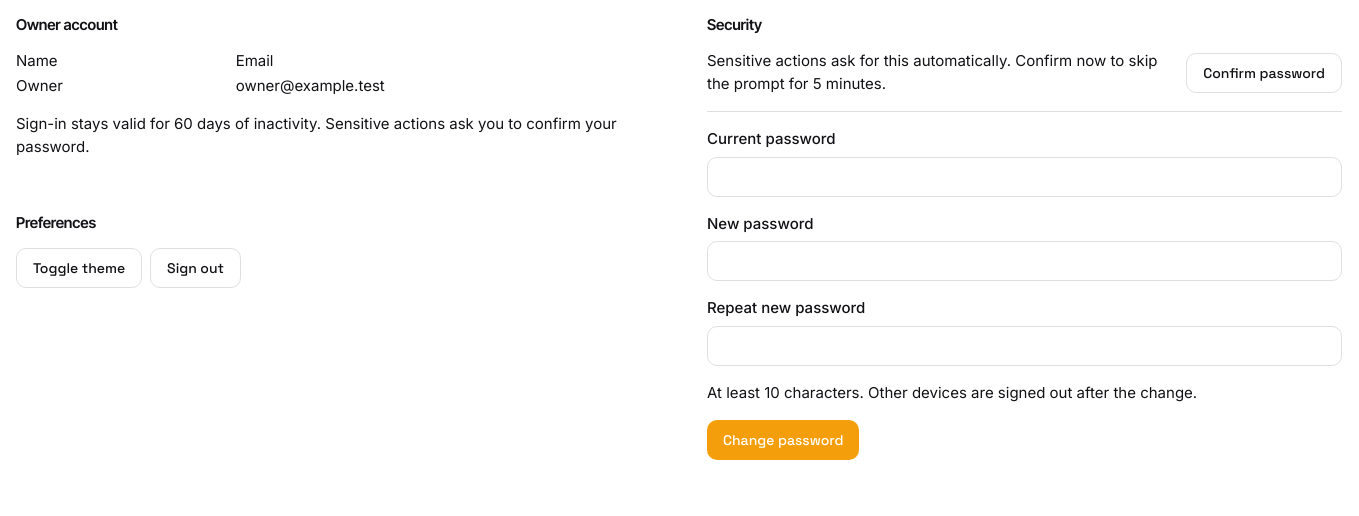
Test: owner password settings › does not send mismatched passwords
Check: the heading "Security" is shown, box [707, 16, 762, 34]
Type "old-password-1" into the password field labelled "Current password".
click(1024, 176); type("old-password-1")  # box [707, 156, 1342, 196]
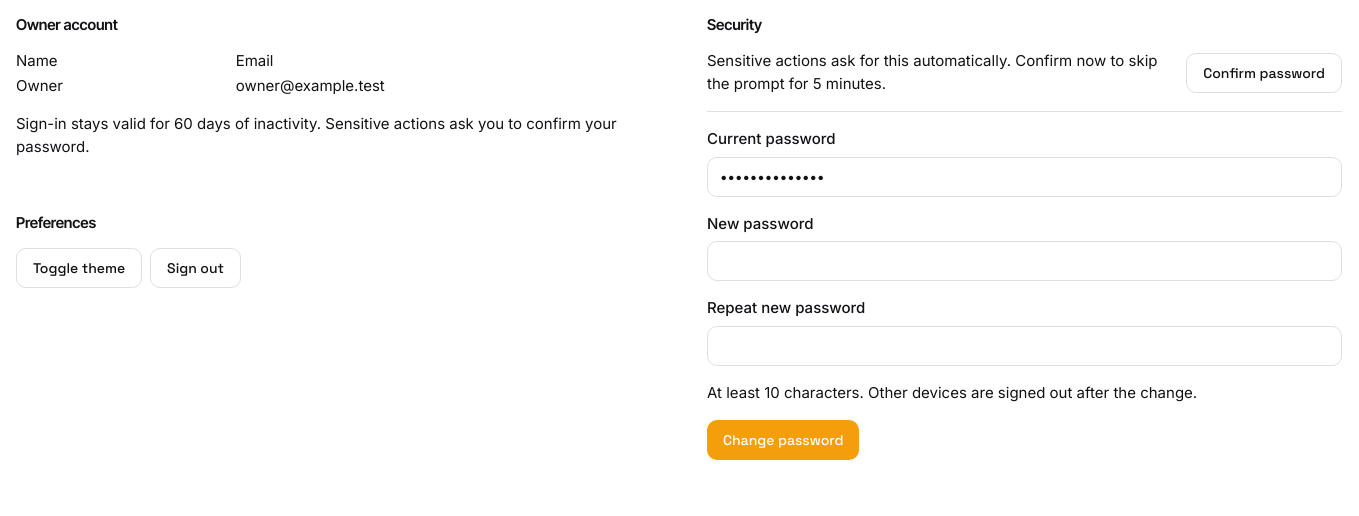
Type "new-password-1" into the password field labelled "New password".
click(1024, 261); type("new-password-1")  # box [707, 241, 1342, 281]
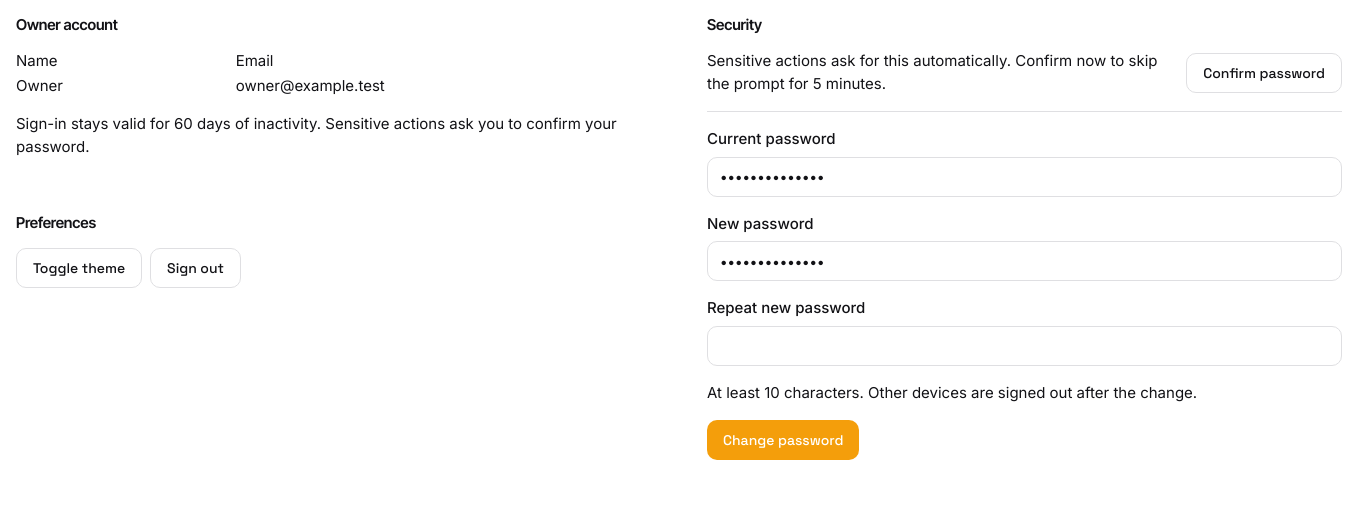
Type "new-password-2" into the password field labelled "Repeat new password".
click(1024, 346); type("new-password-2")  # box [707, 326, 1342, 366]
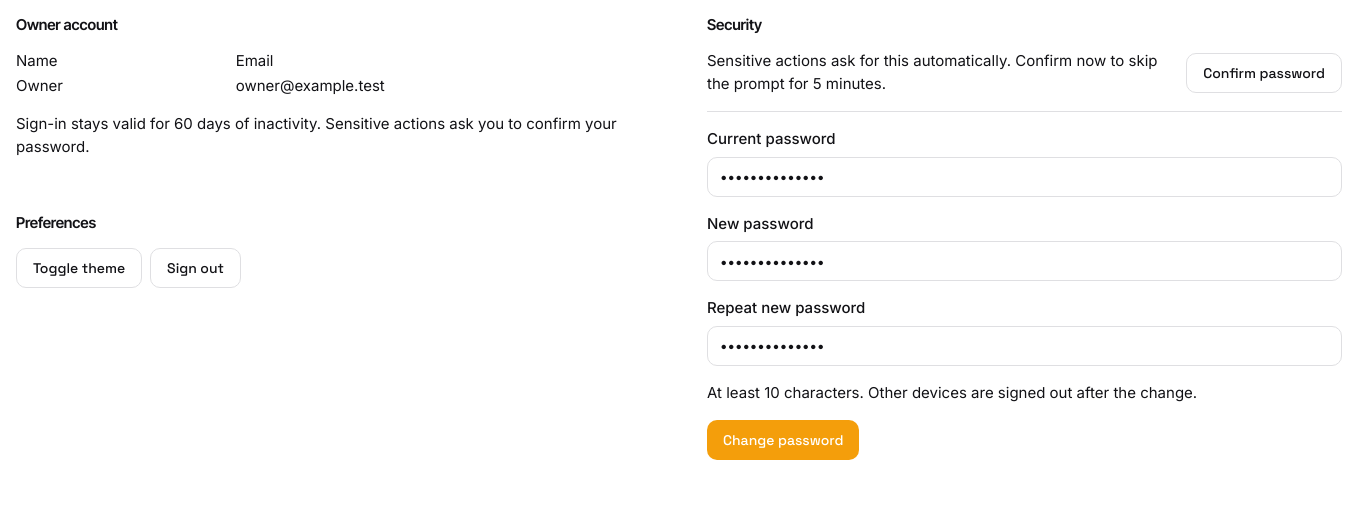
Click the button "Change password".
click(783, 440)  # box [707, 420, 859, 460]
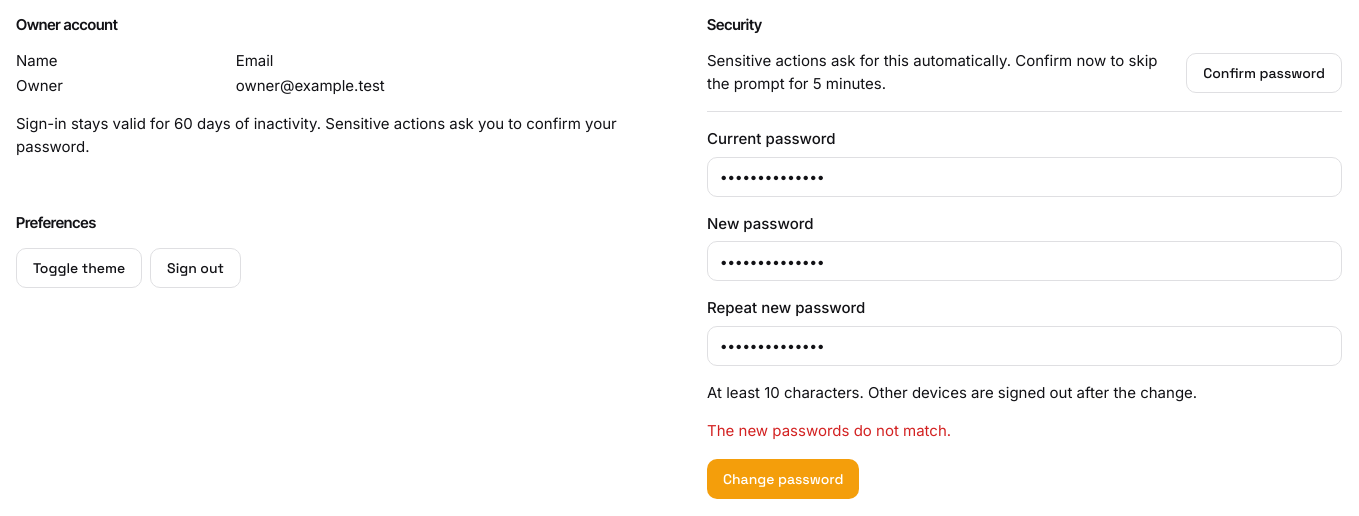
Check: the message shows "do not match", box [707, 421, 951, 440]
